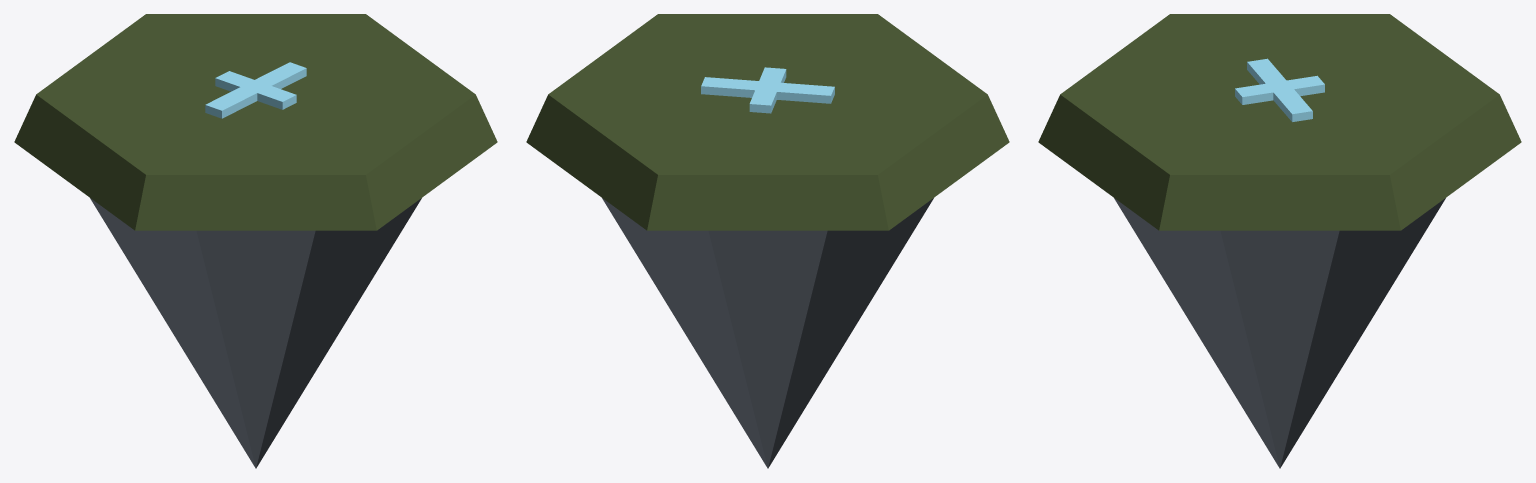
Rendered from FloatingRock.fbx.
3 renders of one model, left to right at view 1: azimuth 30°, elevation 25°; view 2: azimuth 150°, elevation 25°; view 3: azimuth 270°, elevation 25°, orthographic.
Parts seen in each view (by area): view 1: FloatingRock; view 2: FloatingRock; view 3: FloatingRock.
Boxes of the visible parts, x1,y1,x2,y2 form: FloatingRock: [14, 14, 497, 468]; FloatingRock: [526, 14, 1009, 468]; FloatingRock: [1038, 14, 1521, 468].
Bounding box in the file's own units: 0.9526 × 0.96 × 1.1.
